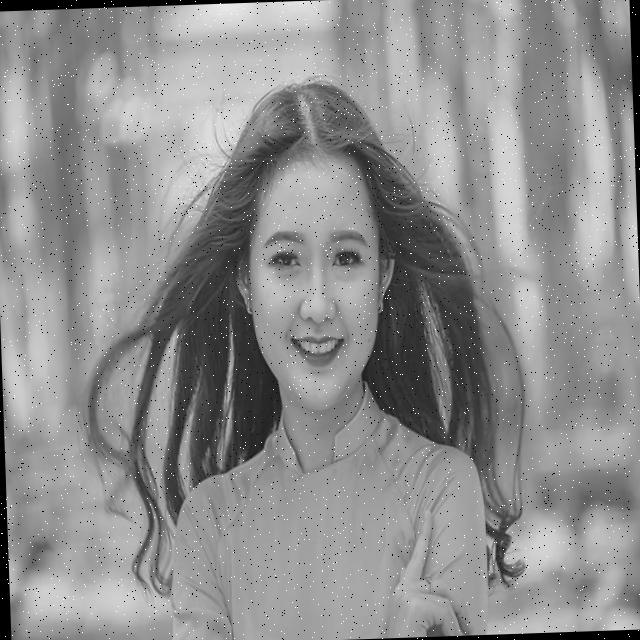Happiness: (238, 146, 391, 418)
